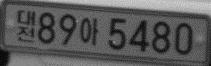0: (174, 22, 193, 54)
4: (128, 19, 149, 51)
5: (107, 17, 126, 49)
8: (151, 21, 171, 53), (37, 11, 55, 44)
9: (58, 13, 77, 45)
대전_V: (16, 8, 36, 44)
아: (80, 16, 99, 46)
